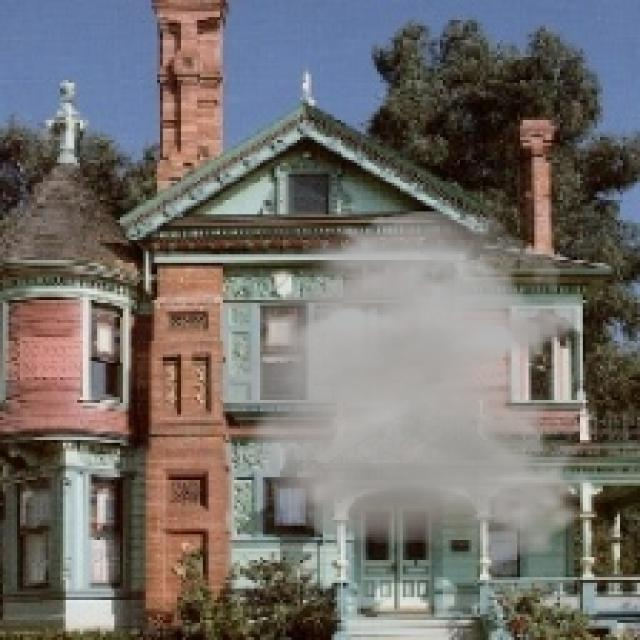smoke: (195, 211, 594, 560)
